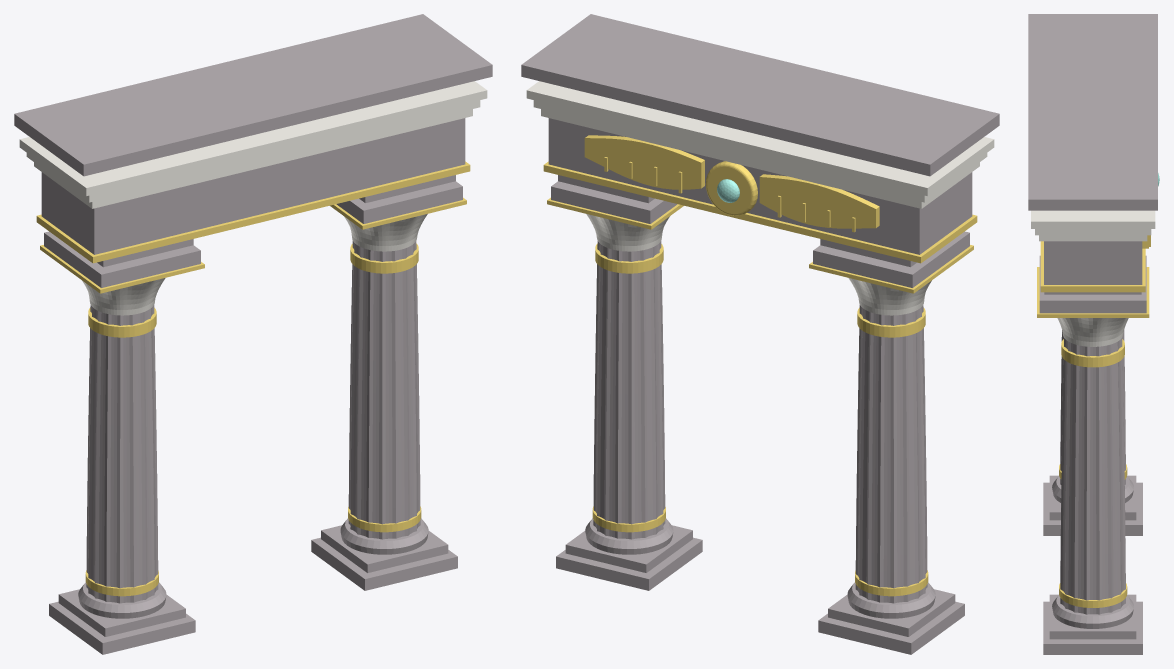
The model's file is SandArch.glb.
3 renders of one model, left to right at view 1: azimuth 30°, elevation 25°; view 2: azimuth 150°, elevation 25°; view 3: azimuth 270°, elevation 25°, orthographic. The views are drawn at different scales.
Visible parts, largest first — view 1: Stone, Paint, Gold; view 2: Stone, Gold, Paint; view 3: Stone, Paint, Gold.
Part boxes in pixels (box(x1,y1,x2,y2)): Stone: box(14, 14, 492, 654); Paint: box(19, 81, 487, 315); Gold: box(36, 161, 470, 596); Stone: box(521, 14, 999, 654); Gold: box(543, 135, 977, 596); Paint: box(526, 81, 994, 315); Stone: box(1028, 14, 1157, 654); Paint: box(1031, 210, 1155, 346); Gold: box(1037, 235, 1150, 607).
Bounding box in the file's own units: 28.07 × 32.97 × 8.39.
